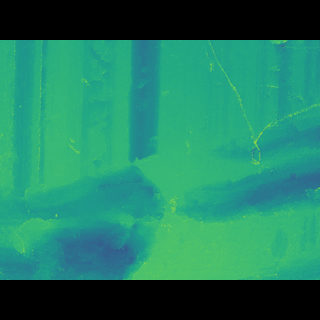Loch: (0, 116, 320, 249)
